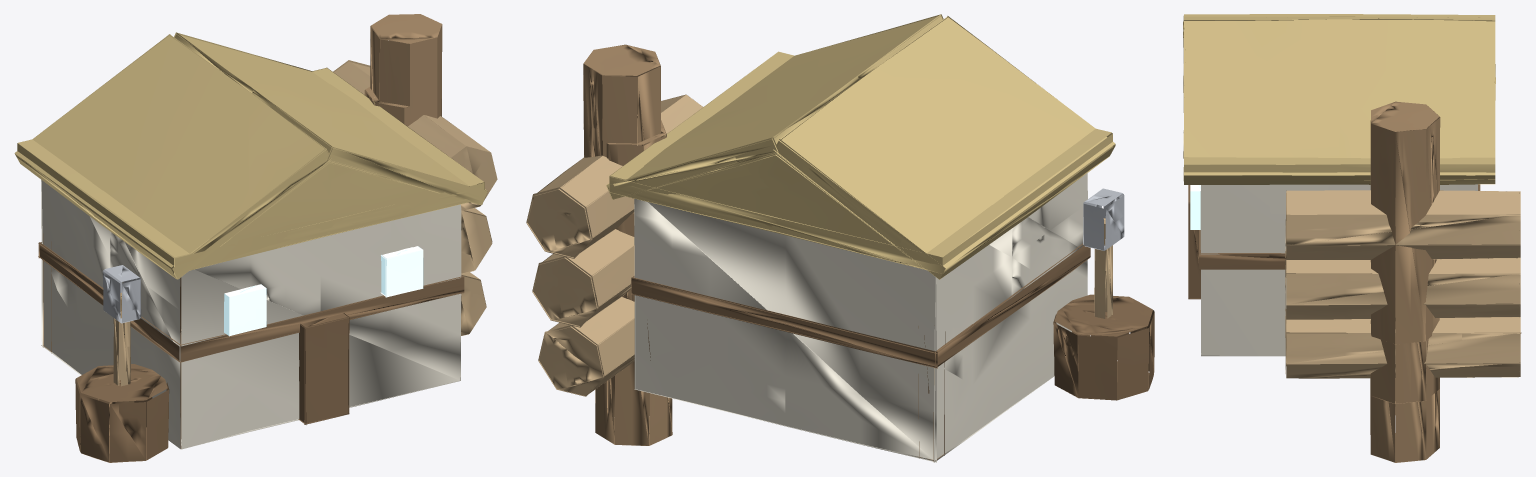
File: woodcutter.glb
3 renders of one model, left to right at view 1: azimuth 30°, elevation 25°; view 2: azimuth 150°, elevation 25°; view 3: azimuth 270°, elevation 25°, orthographic. The views are drawn at different scales.
Parts seen in each view (by area): view 1: WoodcutterWall; view 2: WoodcutterWall; view 3: WoodcutterWall.
Part boxes in pixels (x1,y1,x2,y2): WoodcutterWall: (14, 14, 497, 462); WoodcutterWall: (526, 14, 1154, 462); WoodcutterWall: (1183, 14, 1521, 462).
Bounding box in the file's own units: 2.35 × 1.79 × 1.59.
